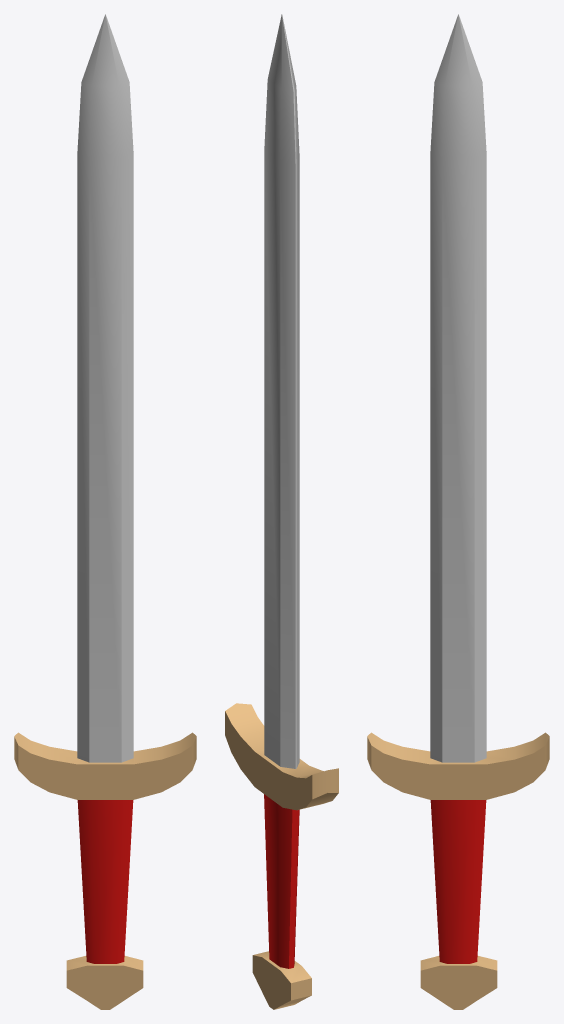
File: Sword lowpoly.fbx
The picture shows the model from 3 angles, left to right: view 1: azimuth 90°, elevation 25°; view 2: azimuth 210°, elevation 25°; view 3: azimuth 270°, elevation 25°; orthographic projection.
Visible parts, largest first — view 1: Cube.001; view 2: Cube.001; view 3: Cube.001.
Boxes of the visible parts, left/top/right/bottom form: Cube.001: left=14, top=14, right=196, bottom=1009; Cube.001: left=225, top=14, right=338, bottom=1009; Cube.001: left=367, top=14, right=549, bottom=1009.
Bounding box in the file's own units: 5.54 × 198 × 33.08.
